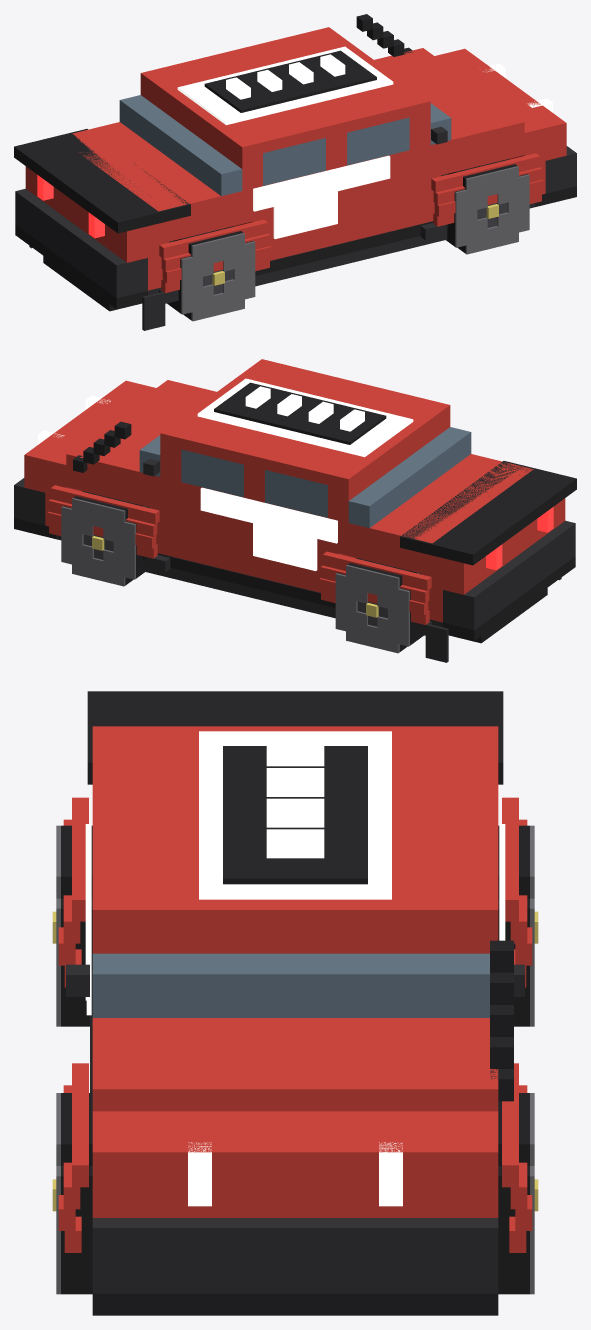
Rendered from rally_a.glb.
3 renders of one model, top to bottom at view 1: azimuth 30°, elevation 25°; view 2: azimuth 150°, elevation 25°; view 3: azimuth 270°, elevation 25°, orthographic. The views are drawn at different scales.
Parts seen in each view (by area): view 1: car_cabin, car_fascia, car_hood, car_boot, car_flank, car_spoiler, car_wheel_fr, car_wheel_rr, car_fender, car_chassis, car_roofpanel, car_doorpanel (+5 smaller); view 2: car_cabin, car_fascia, car_boot, car_hood, car_spoiler, car_flank, car_wheel_fl, car_wheel_rl, car_fender, car_chassis, car_roofpanel, car_doorpanel (+5 smaller); view 3: car_cabin, car_fascia, car_hood, car_spoiler, car_fender, car_roofpanel, car_chassis, car_wheel_fr, car_wheel_fl, car_snorkel, car_wheel_rr, car_wheel_rl (+2 smaller).
Part boxes in pixels (x1,y1,x2,y2): car_cabin: (119,27,451,195); car_fascia: (15,48,576,298); car_hood: (374,48,524,187); car_boot: (72,122,252,243); car_flank: (148,150,545,295); car_spoiler: (14,129,190,233); car_wheel_fr: (446,159,529,254); car_wheel_rr: (167,226,255,321); car_fender: (159,153,543,293); car_chassis: (159,174,576,303); car_roofpanel: (177,46,393,125); car_doorpanel: (253,155,390,211); car_cabin: (139,359,471,527); car_fascia: (14,380,575,630); car_boot: (338,454,533,575); car_hood: (66,380,216,519); car_spoiler: (400,461,576,565); car_flank: (45,482,442,627); car_wheel_fl: (61,491,144,586); car_wheel_rl: (335,558,423,653); car_fender: (47,485,431,624); car_chassis: (14,506,431,635); car_roofpanel: (197,378,413,457); car_doorpanel: (200,487,337,543); car_cabin: (92,726,498,1017); car_fascia: (66,964,524,1293); car_hood: (92,1018,498,1111); car_spoiler: (87,691,503,784); car_fender: (58,797,532,1252); car_roofpanel: (199,731,391,899); car_chassis: (90,971,498,1315); car_wheel_fr: (52,1093,92,1294); car_wheel_fl: (498,1093,538,1294); car_snorkel: (490,940,513,1101); car_wheel_rr: (52,825,92,1026); car_wheel_rl: (498,825,538,1026).
Size of the model in its own units: 4.4 by 1.53 by 2.01.
